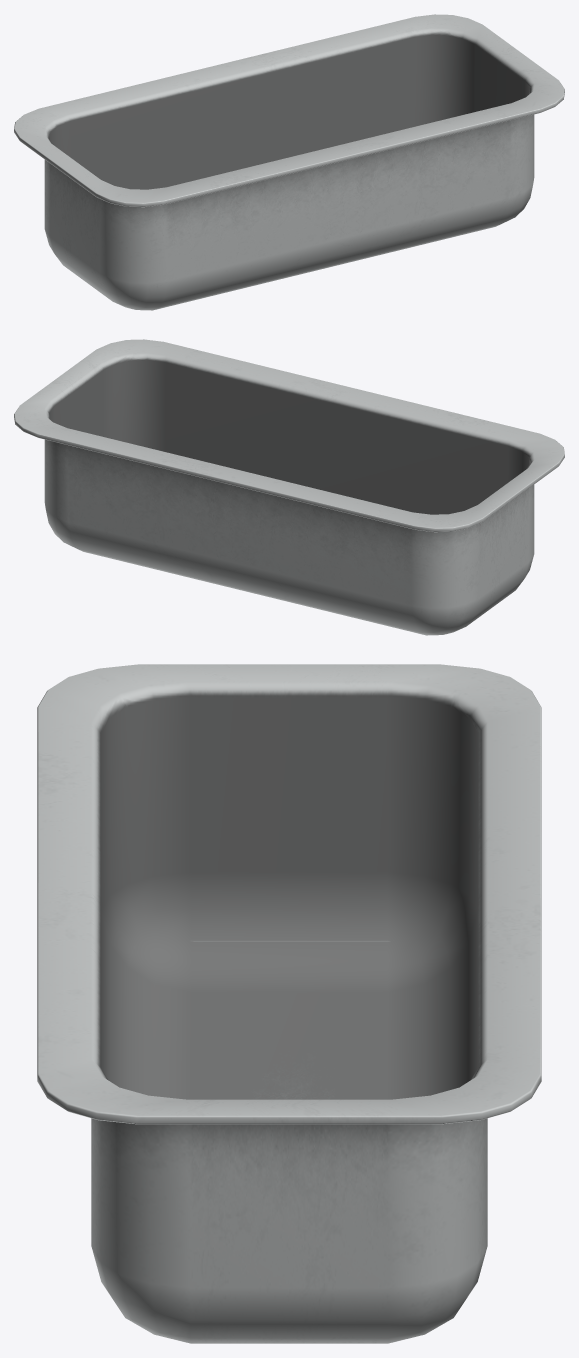
The model's file is Container_02.FBX.
3 views of the same model, one above another, from view 1: azimuth 30°, elevation 25°; view 2: azimuth 150°, elevation 25°; view 3: azimuth 270°, elevation 25° (orthographic). The views are drawn at different scales.
Visible parts, largest first — view 1: Container_02; view 2: Container_02; view 3: Container_02.
Boxes of the visible parts, <box> form: Container_02: <box>14,14,564,310</box>; Container_02: <box>14,339,564,635</box>; Container_02: <box>37,664,541,1343</box>.
Size of the model in its own units: 53.99 by 15.5 by 25.45.
1 material, 1 textured.
